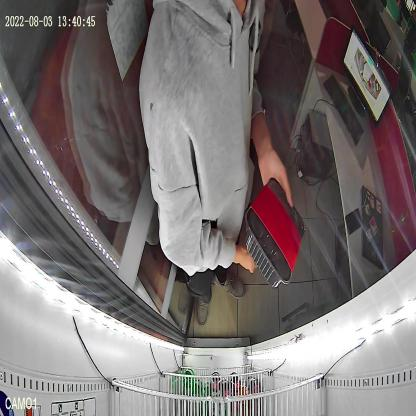red: (245, 177, 305, 288)
